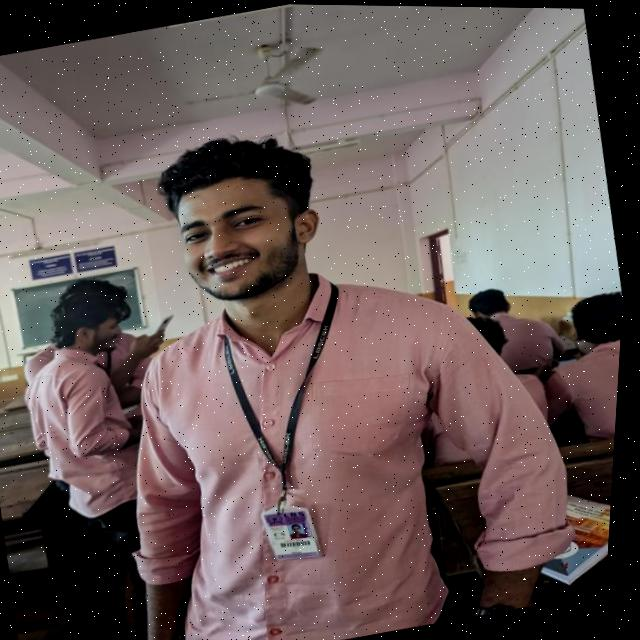id_card: (199, 270, 399, 579)
